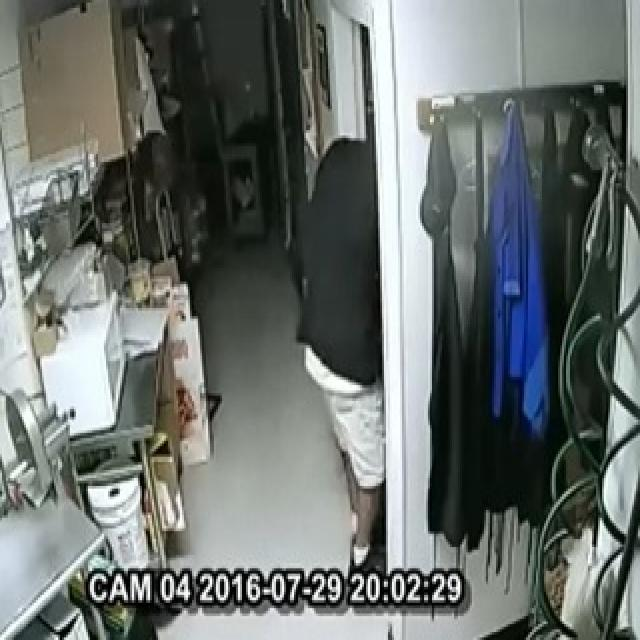thief: (294, 123, 409, 479)
